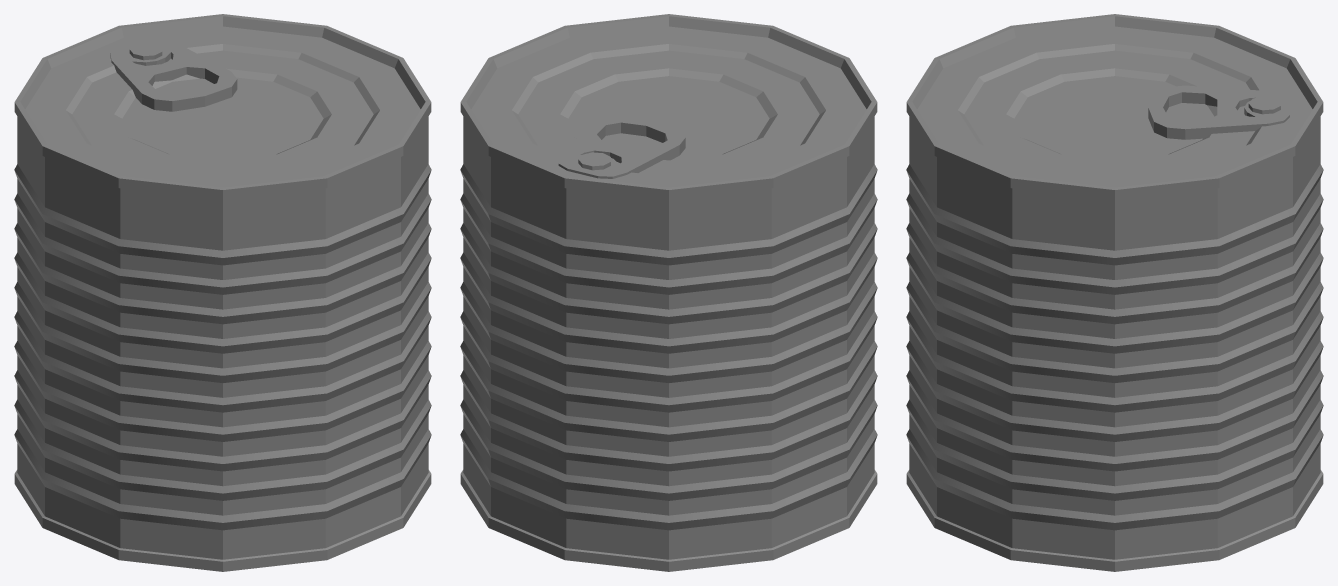
Rendered from conserva.fbx.
3 views of the same model, side by side, from view 1: azimuth 30°, elevation 25°; view 2: azimuth 150°, elevation 25°; view 3: azimuth 270°, elevation 25° (orthographic).
Visible parts, largest first — view 1: conservi; view 2: conservi; view 3: conservi.
Part boxes in pixels (x1=…): conservi: x1=14, y1=14, x2=431, y2=571; conservi: x1=460, y1=14, x2=877, y2=571; conservi: x1=906, y1=14, x2=1323, y2=571.
Size of the model in its own units: 51.1 by 51.6 by 51.1.
1 material, 1 textured.
